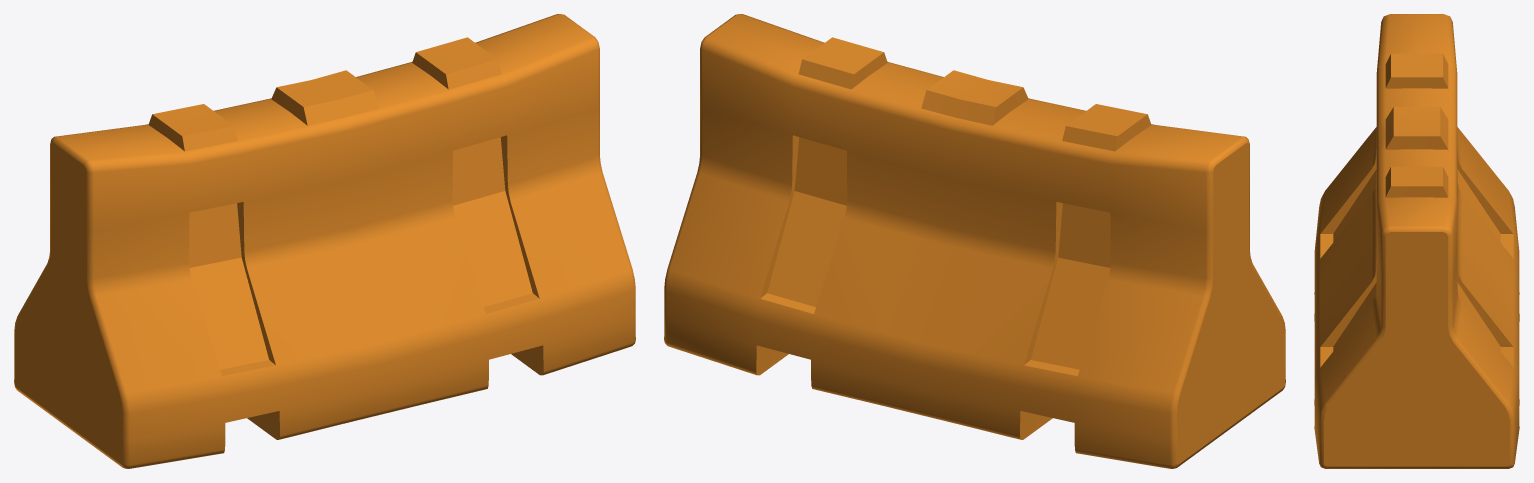
The model's file is rua_road_barrier_02.glb.
The picture shows the model from 3 angles, left to right: view 1: azimuth 30°, elevation 25°; view 2: azimuth 150°, elevation 25°; view 3: azimuth 270°, elevation 25°; orthographic projection. The views are drawn at different scales.
Parts seen in each view (by area): view 1: SM_Road_Barrier_02; view 2: SM_Road_Barrier_02; view 3: SM_Road_Barrier_02.
Part boxes in pixels (x1,y1,x2,y2): SM_Road_Barrier_02: (14, 14, 635, 468); SM_Road_Barrier_02: (664, 14, 1285, 468); SM_Road_Barrier_02: (1314, 14, 1519, 468).
Size of what is drawn, in the model's own units: 0.9063 by 0.4846 by 0.3643.
